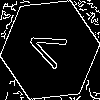V: (25, 25, 76, 74)
